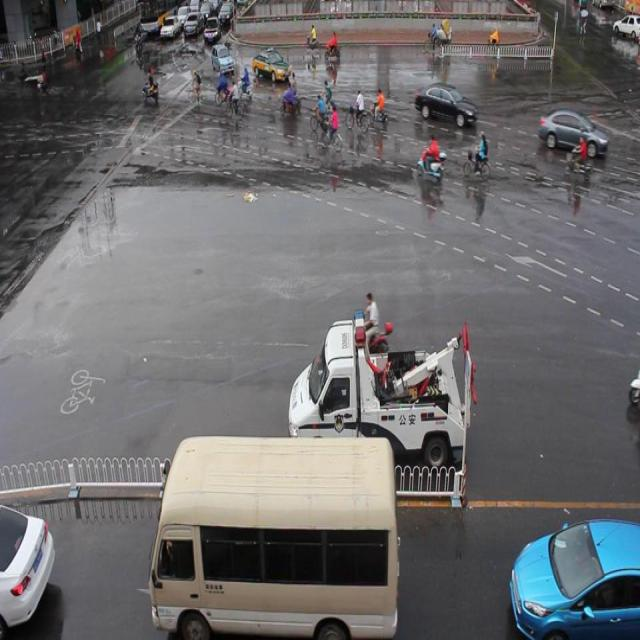bus: (288, 310, 476, 473)
car: (508, 515, 640, 640), (1, 499, 56, 640), (536, 105, 608, 160), (412, 82, 477, 128), (252, 46, 292, 84), (212, 42, 234, 78)
truck: (149, 432, 399, 640)
